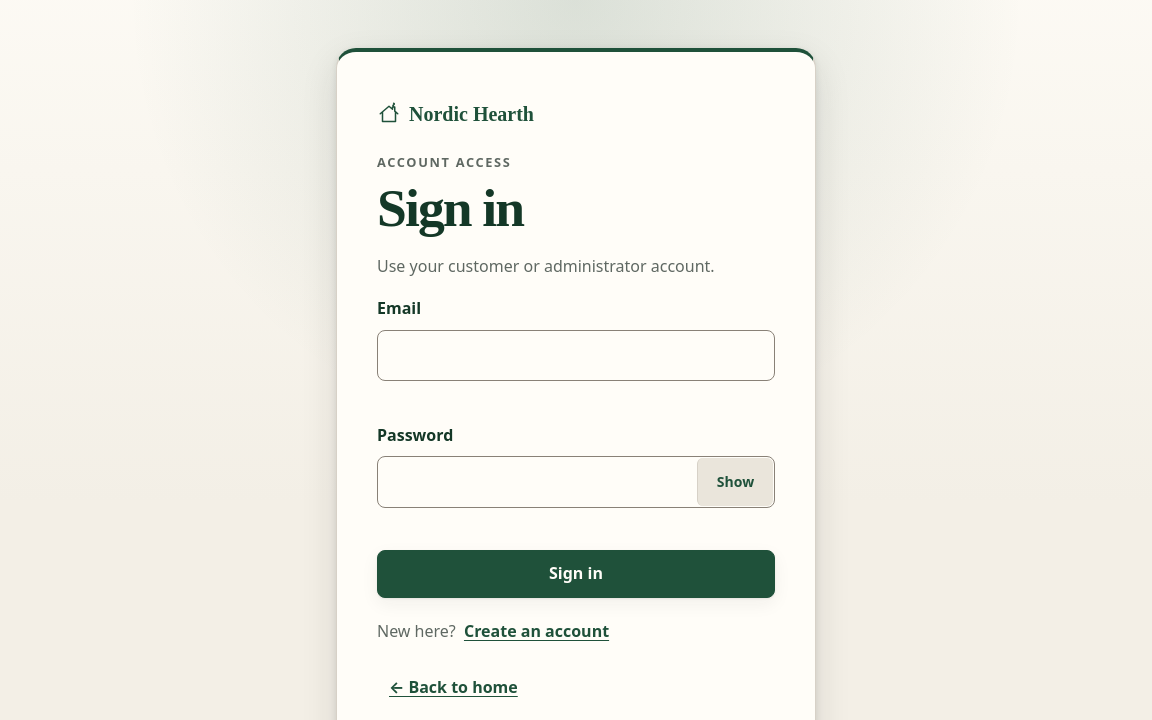
Test case: shared login page › requires a password and focuses it after a valid email
The width and height of the screenshot is (1152, 720).
Type "customer@example.invalid" into the field labelled "Email".
click(576, 355); type("customer@example.invalid")  # box [377,330,775,381]
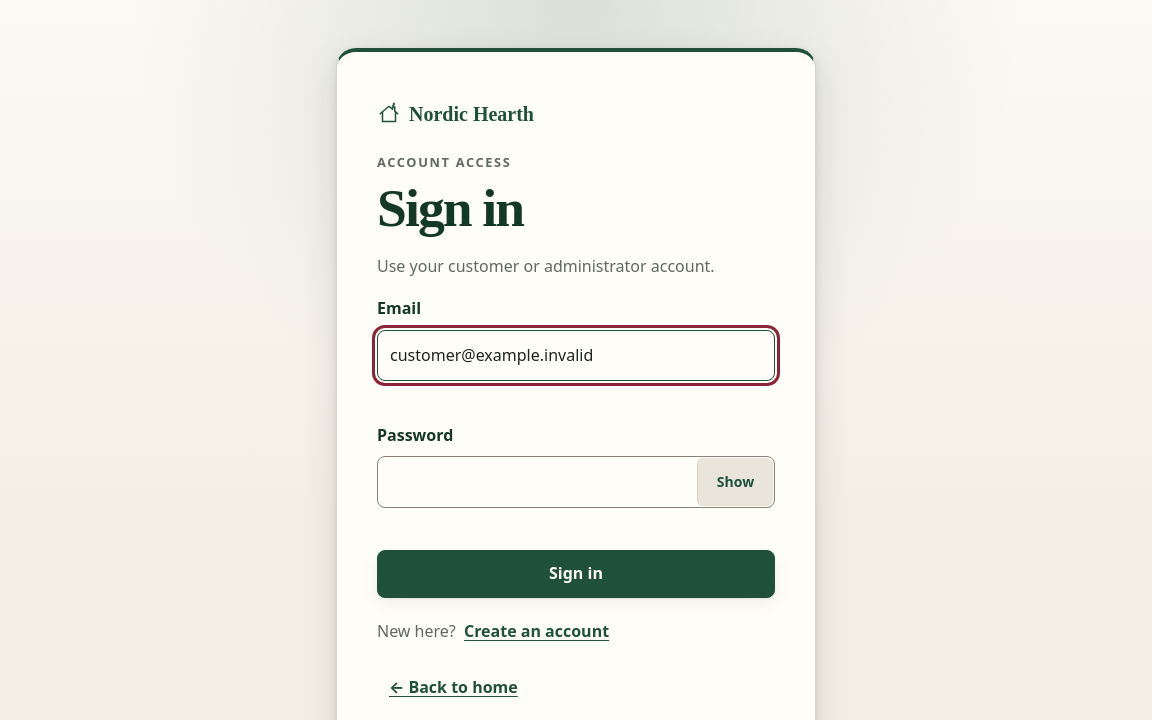
Click the button "Sign in".
click(576, 574)  # box [377,550,775,598]
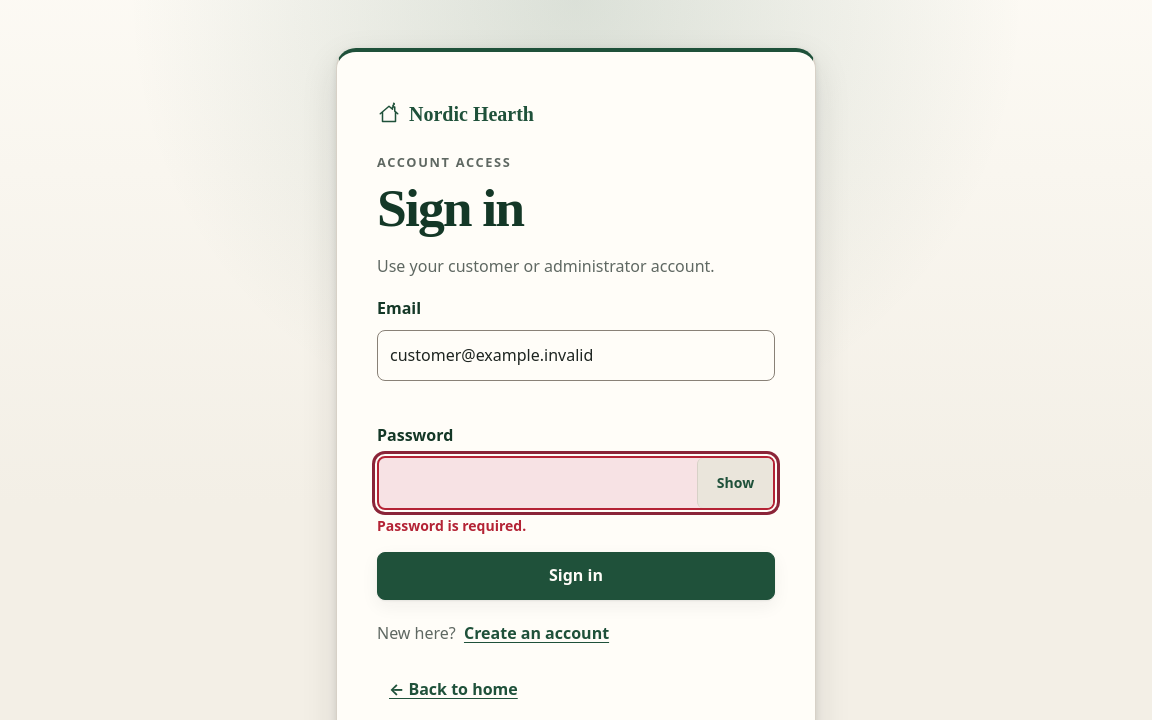
Result: the text "Password is required." is shown at [377,516,526,535]
